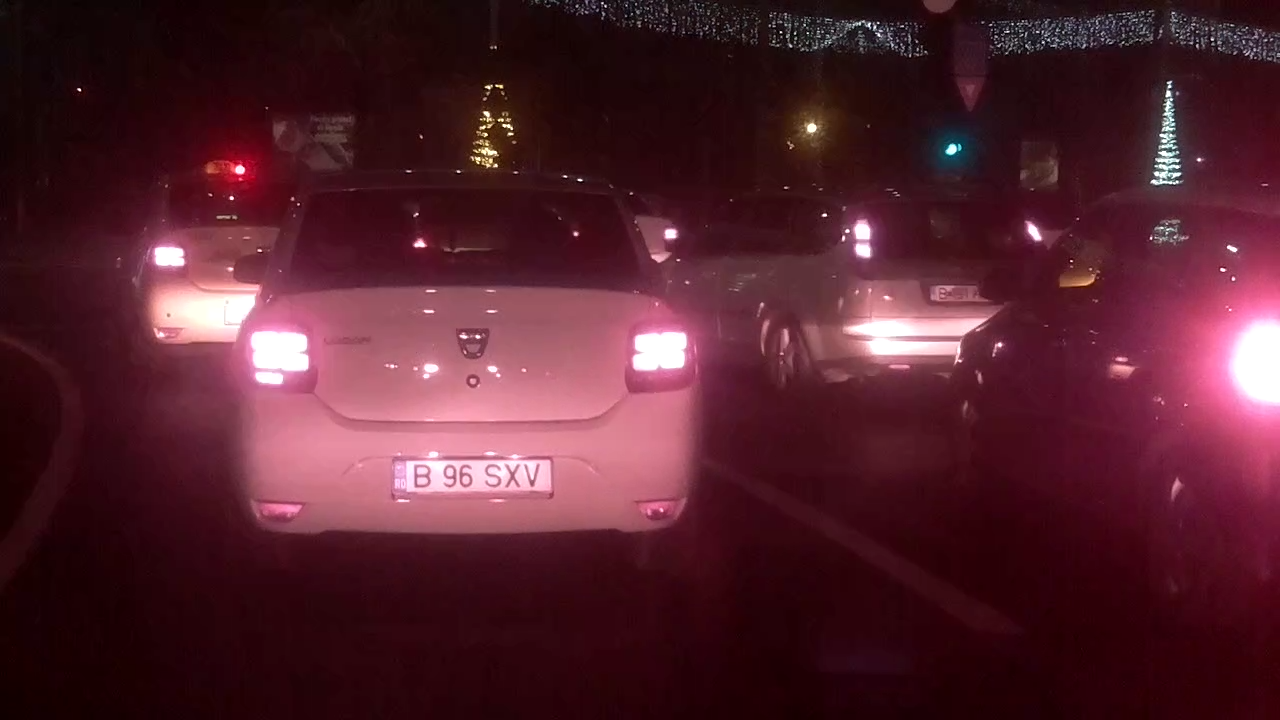license-plate: (385, 450, 562, 502)
